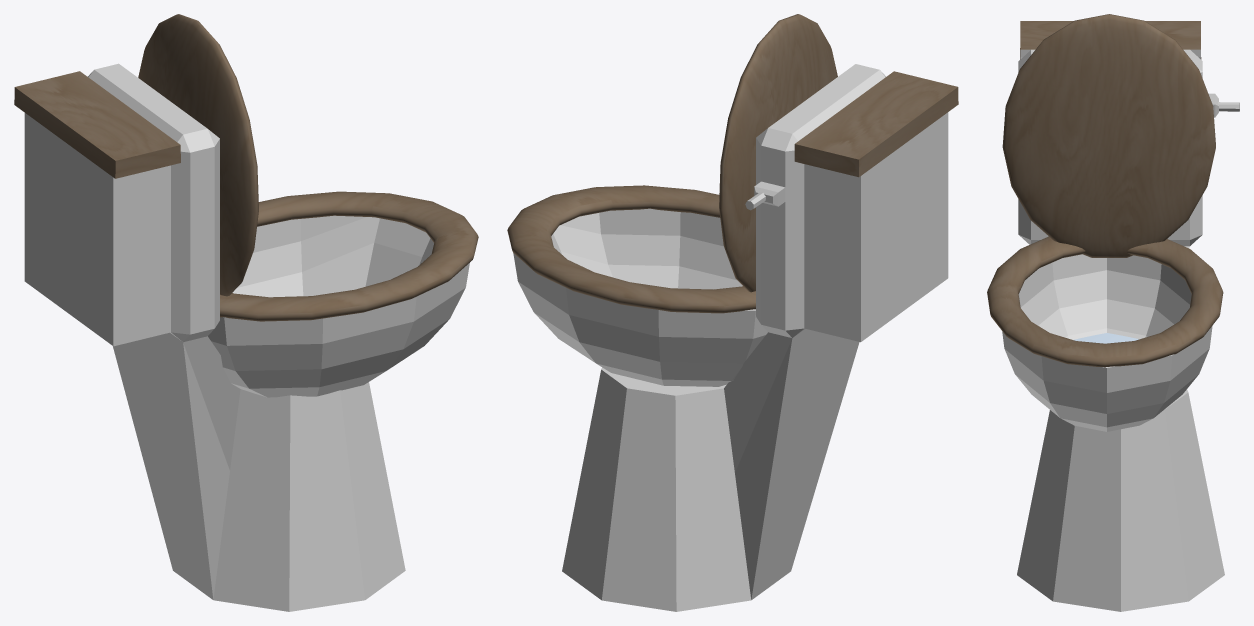
The model's file is toilet.fbx.
3 renders of one model, left to right at view 1: azimuth 30°, elevation 25°; view 2: azimuth 150°, elevation 25°; view 3: azimuth 270°, elevation 25°, orthographic. The views are drawn at different scales.
Parts seen in each view (by area): view 1: pSphere5; view 2: pSphere5; view 3: pSphere5.
Boxes of the visible parts, x1,y1,x2,y2 form: pSphere5: (14,14,478,611); pSphere5: (507,14,958,611); pSphere5: (987,14,1239,611).
Bounding box in the file's own units: 0.9954 × 1.36 × 0.6129.
